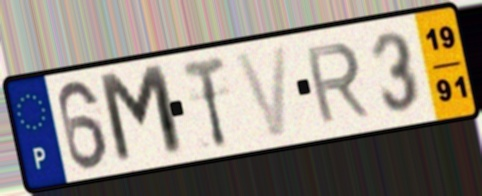3: (368, 28, 421, 116)
6: (56, 76, 111, 174)
M: (94, 61, 190, 170)
R: (301, 39, 373, 128)
T: (179, 52, 230, 152)
V: (231, 42, 290, 141)
